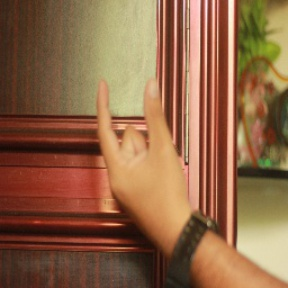U: (87, 73, 186, 214)
